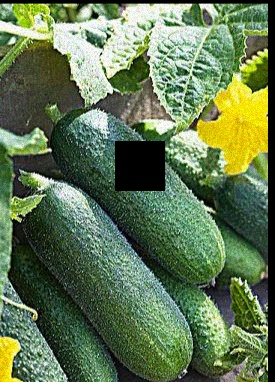cucumber: (23, 182, 184, 373), (62, 110, 223, 284)
cucumber_plant: (50, 6, 266, 107)
